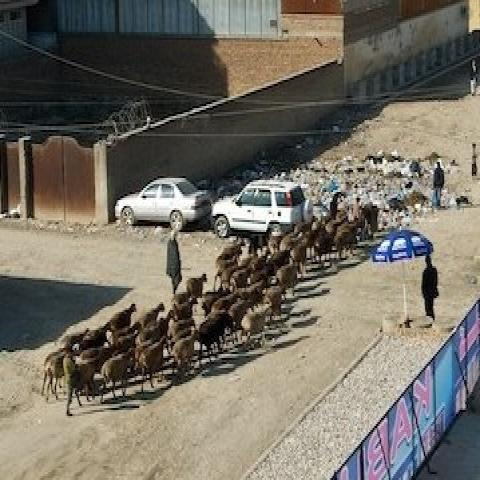car: (211, 179, 314, 239), (111, 176, 211, 231)
